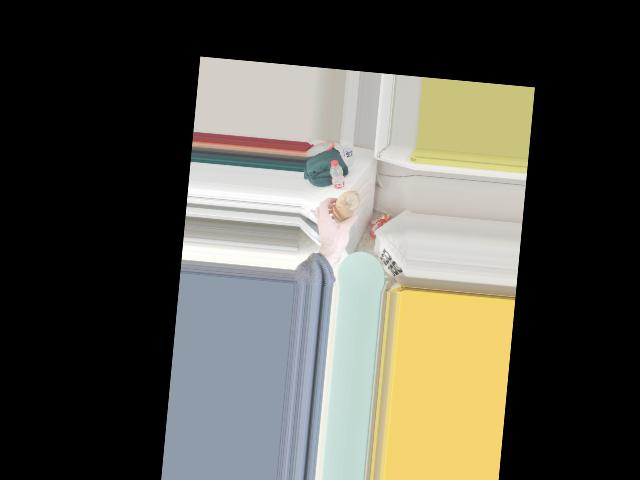sweet_potato: (329, 188, 360, 225)
